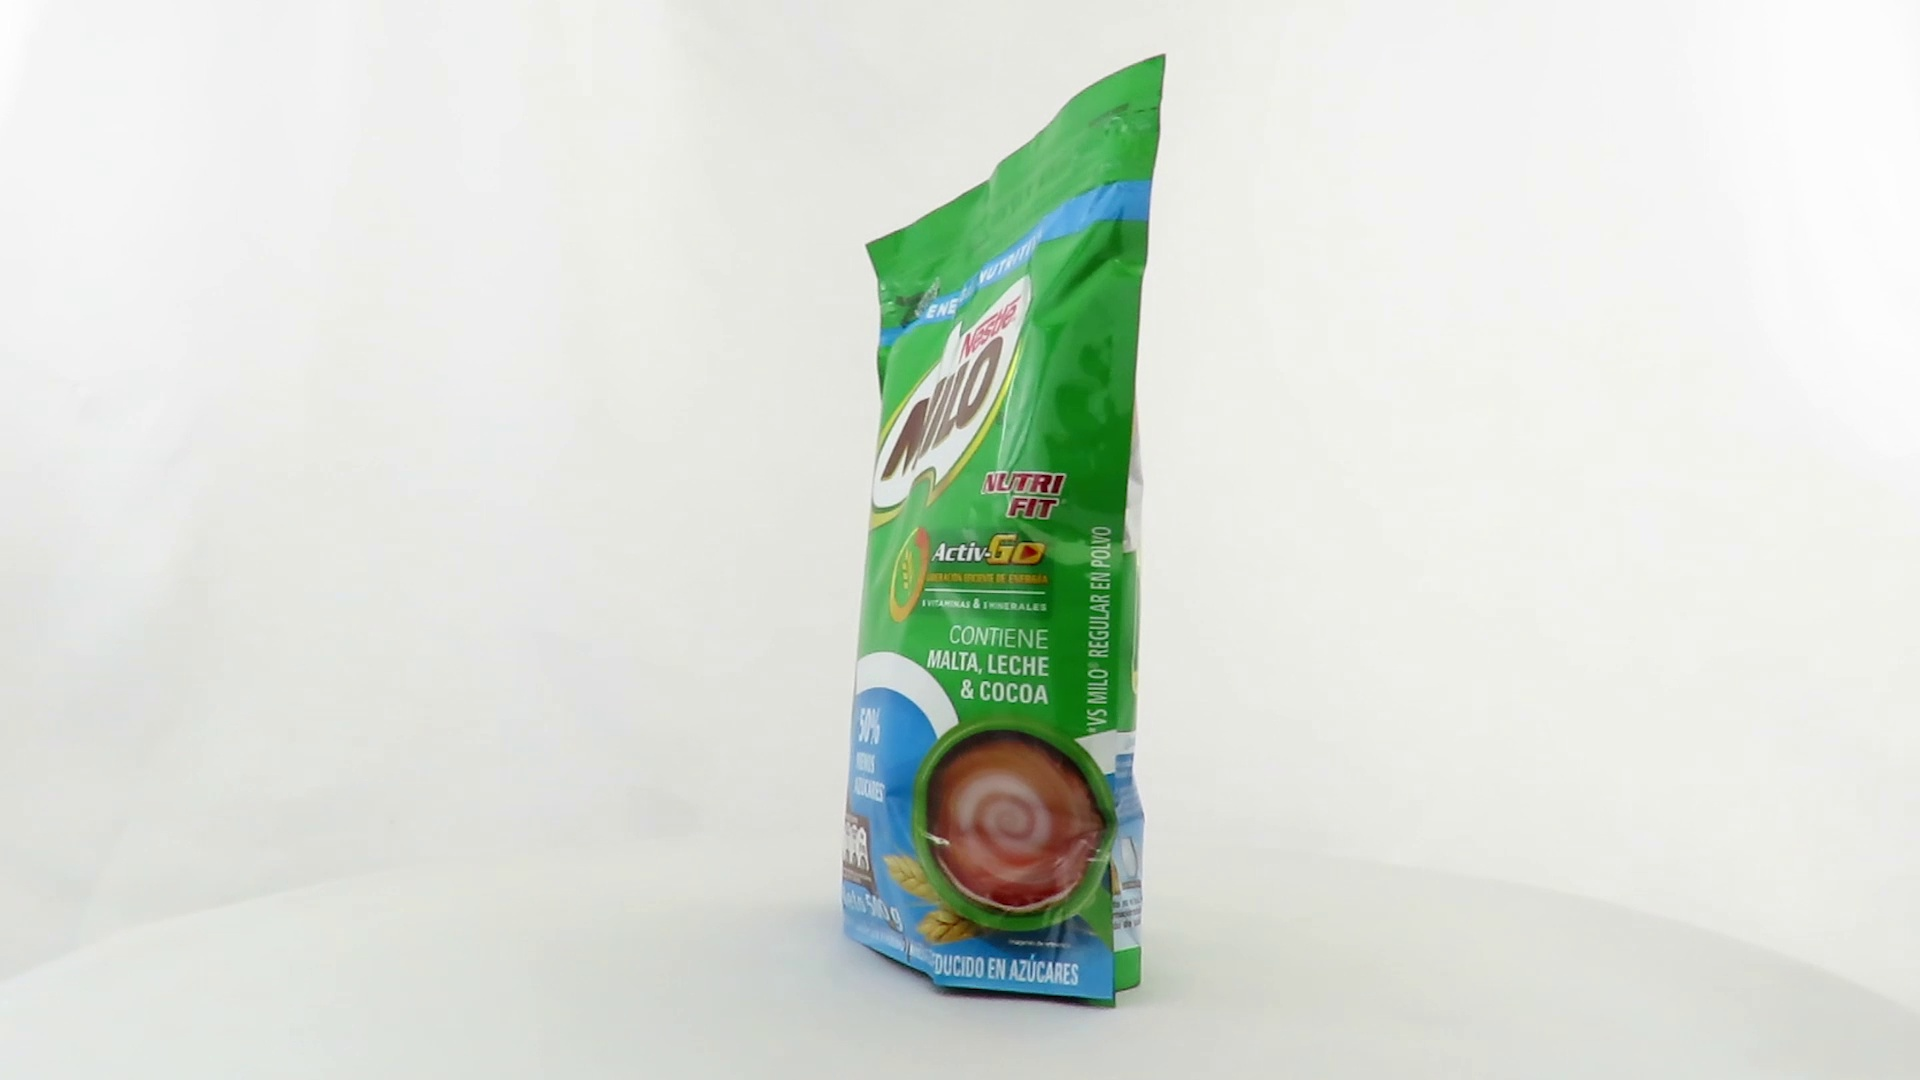COL0170205DYP50000: (836, 47, 1172, 1015)
